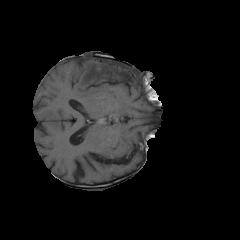glioma: (73, 55, 151, 99)
